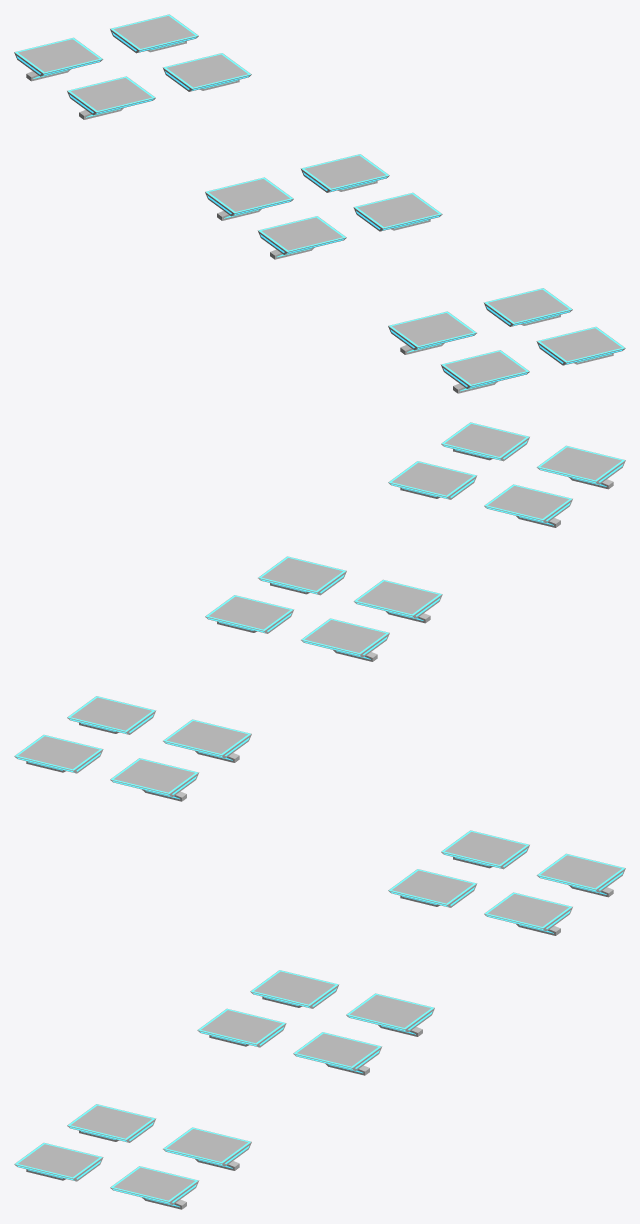
Rendered from traintables.glb.
The picture shows the model from 3 angles, top to bottom: view 1: azimuth 30°, elevation 25°; view 2: azimuth 150°, elevation 25°; view 3: azimuth 330°, elevation 25°; orthographic projection.
Visible parts, largest first — view 1: Plane.001, Plane.005, Plane.007; view 2: Plane.001, Plane.007, Plane.005; view 3: Plane.001, Plane.005, Plane.007.
Part boxes in pixels (box(x1,y1,x2,y2)): Plane.001: box(205, 154, 442, 259); Plane.005: box(388, 288, 625, 393); Plane.007: box(14, 14, 251, 119); Plane.001: box(205, 556, 442, 661); Plane.007: box(14, 696, 251, 801); Plane.005: box(388, 422, 625, 527); Plane.001: box(197, 970, 434, 1075); Plane.005: box(14, 1104, 251, 1209); Plane.007: box(388, 830, 625, 935).
Size of the model in its own units: 2.85 by 0.2903 by 14.49.
